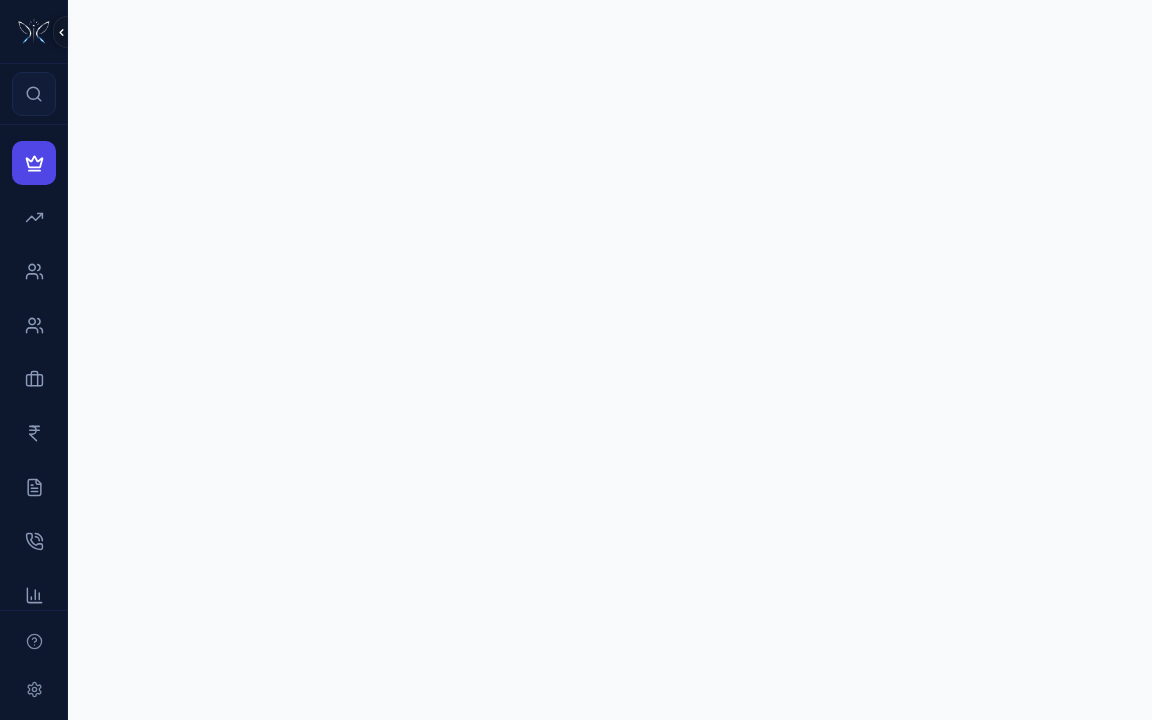
Test: Sidebar Component - Search & Rail interaction › displays recent search history section and allows clearing it
Hover over the button named "search navigation" at [34, 94], box x1=12 y1=72 x2=56 y2=116
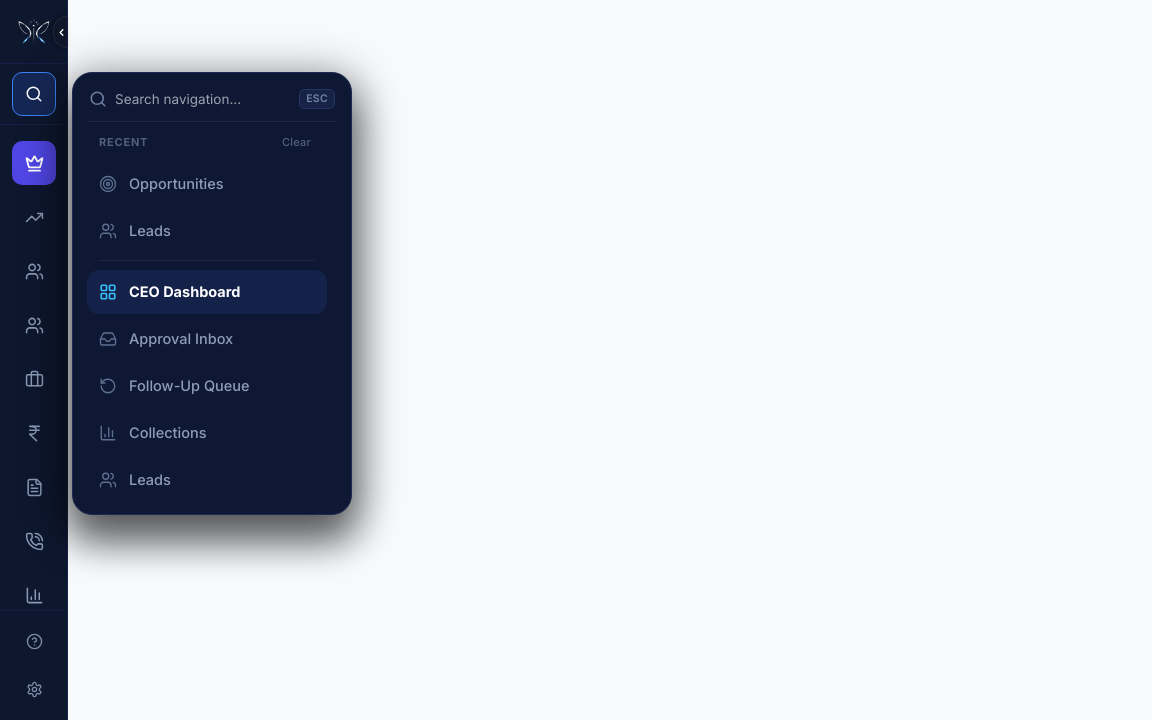
Result: the dialog named "navigation search" is shown at x1=72 y1=72 x2=352 y2=515
Result: the text "RECENT" is shown at x1=99 y1=134 x2=148 y2=151
# Click "Clear" button
Click the button with aria-label "clear recent searches" at [297, 143], box x1=278 y1=132 x2=315 y2=153
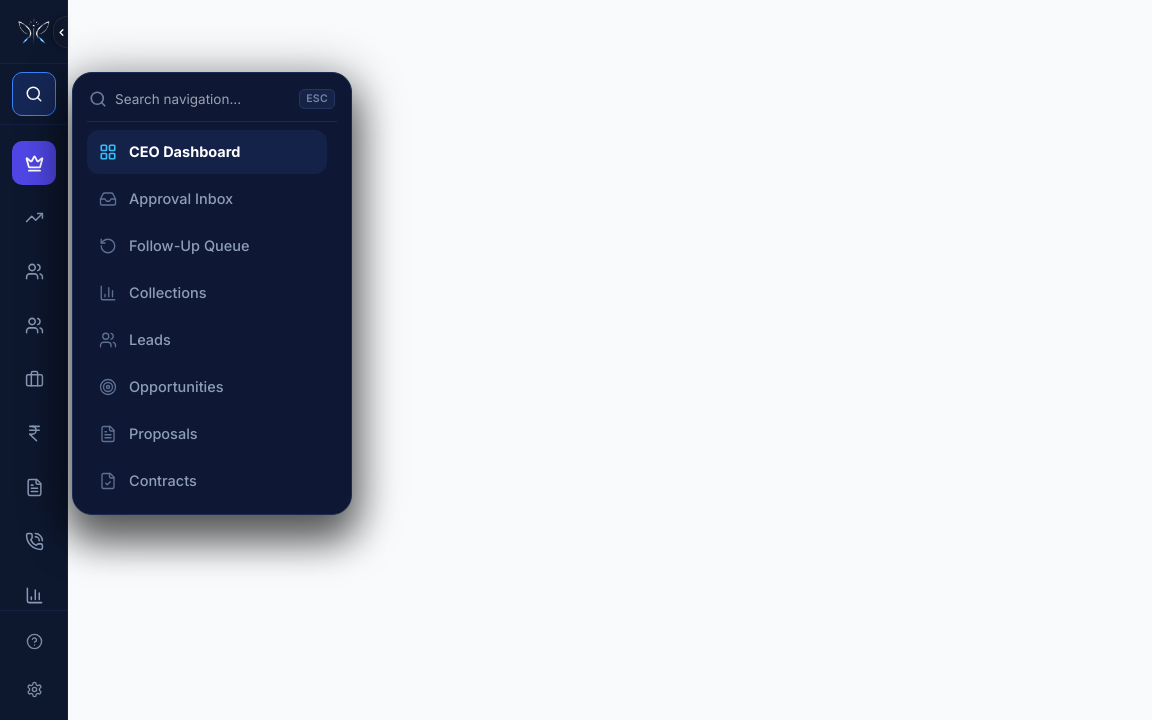
Result: the text "RECENT" is gone
